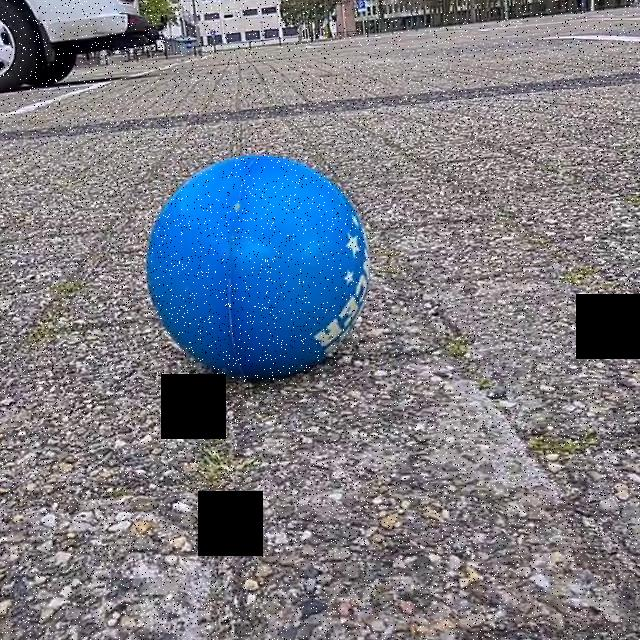ball: (142, 149, 370, 383)
